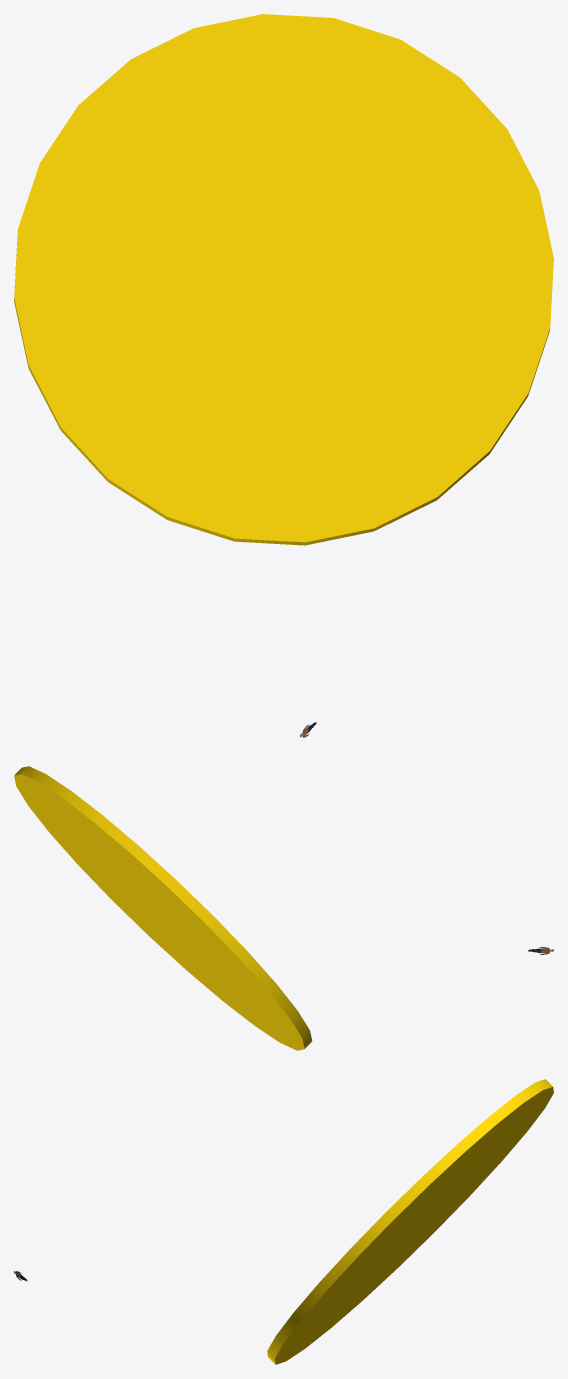
Rendered from gold coin.fbx.
3 views of the same model, one above another, from view 1: azimuth 30°, elevation 25°; view 2: azimuth 150°, elevation 25°; view 3: azimuth 270°, elevation 25° (orthographic). The views are drawn at different scales.
Visible parts, largest first — view 1: Model; view 2: Model; view 3: Model.
Part boxes in pixels (box(x1,y1,x2,y2)): Model: box(14, 14, 553, 545); Model: box(14, 766, 312, 1050); Model: box(267, 1079, 553, 1364).
Bounding box in the file's own units: 1127 × 905 × 1525.
